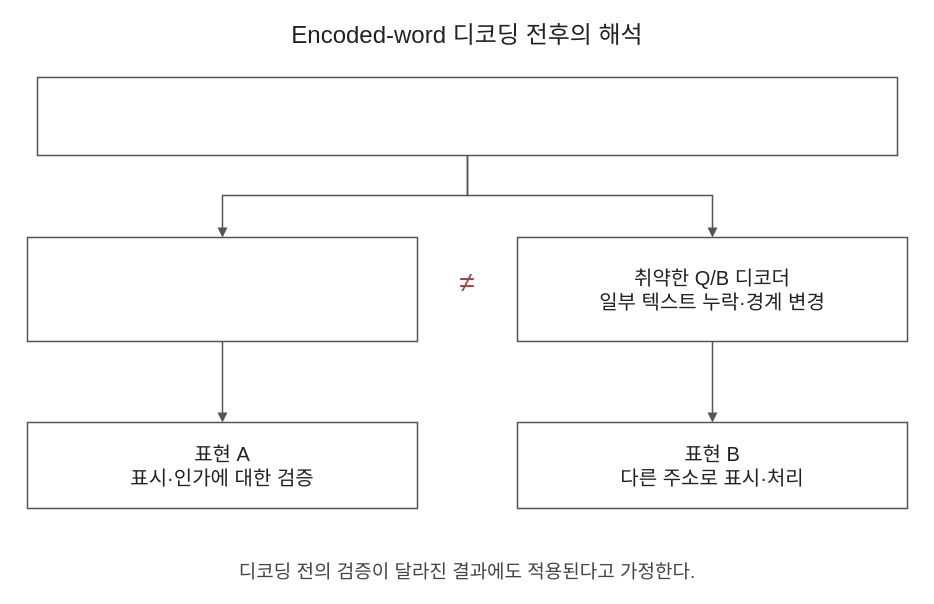
Some shapes in this 934 by 604 pixel diagram are drawn without their labels. Each missing label, with the centre of its shape:
"비정상적인 encoded-word가 포함된 헤더" goes at pixel 467 116.
"원문을 검사하는 검증기 디코딩 전 주소로 판단" goes at pixel 222 289.
